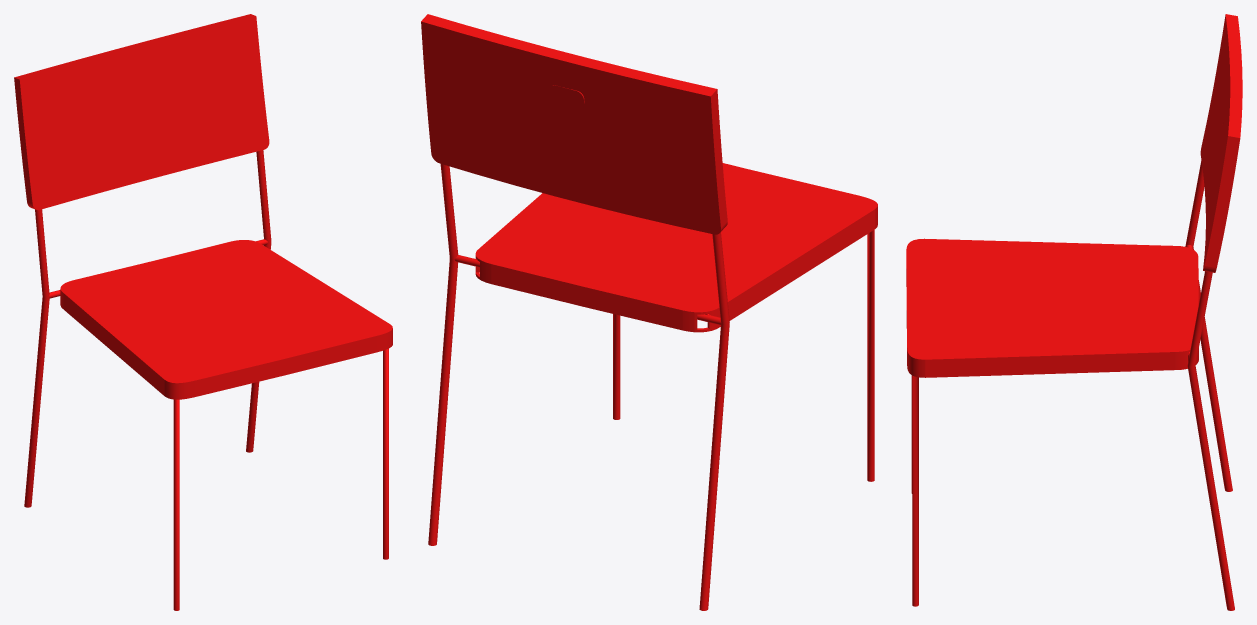
The model's file is IKEA-Herman_chair-3D.DAE.
3 renders of one model, left to right at view 1: azimuth 30°, elevation 25°; view 2: azimuth 150°, elevation 25°; view 3: azimuth 270°, elevation 25°, orthographic. The views are drawn at different scales.
Parts seen in each view (by area): view 1: Rectangle01, Loft05; view 2: Rectangle01, Loft05; view 3: Rectangle01, Loft05.
Boxes of the visible parts, box(x1,y1,x2,y2) form: Rectangle01: box(14, 14, 392, 399); Loft05: box(24, 150, 388, 610); Rectangle01: box(421, 14, 877, 332); Loft05: box(428, 164, 874, 610); Rectangle01: box(906, 14, 1242, 377); Loft05: box(911, 161, 1234, 610).
Size of the model in its own units: 455 by 788 by 504.
